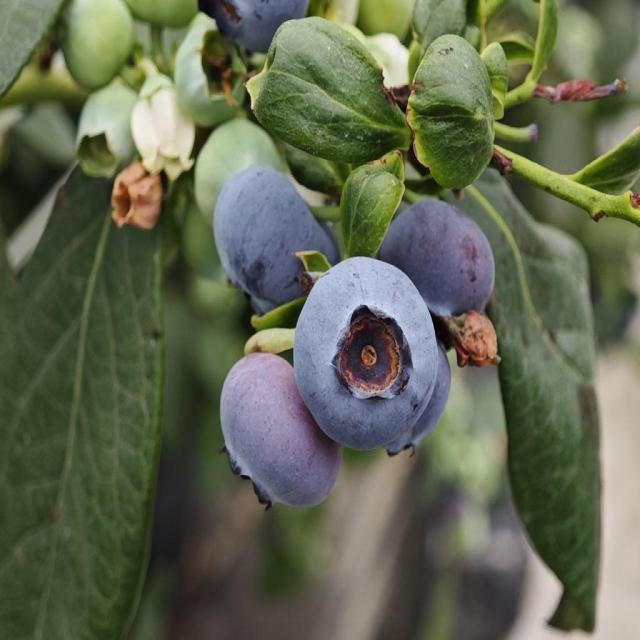RipeBlueBerry: (299, 254, 436, 454), (219, 356, 339, 519), (217, 168, 326, 306), (389, 195, 499, 318)
